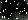person: (13, 3, 19, 17)
